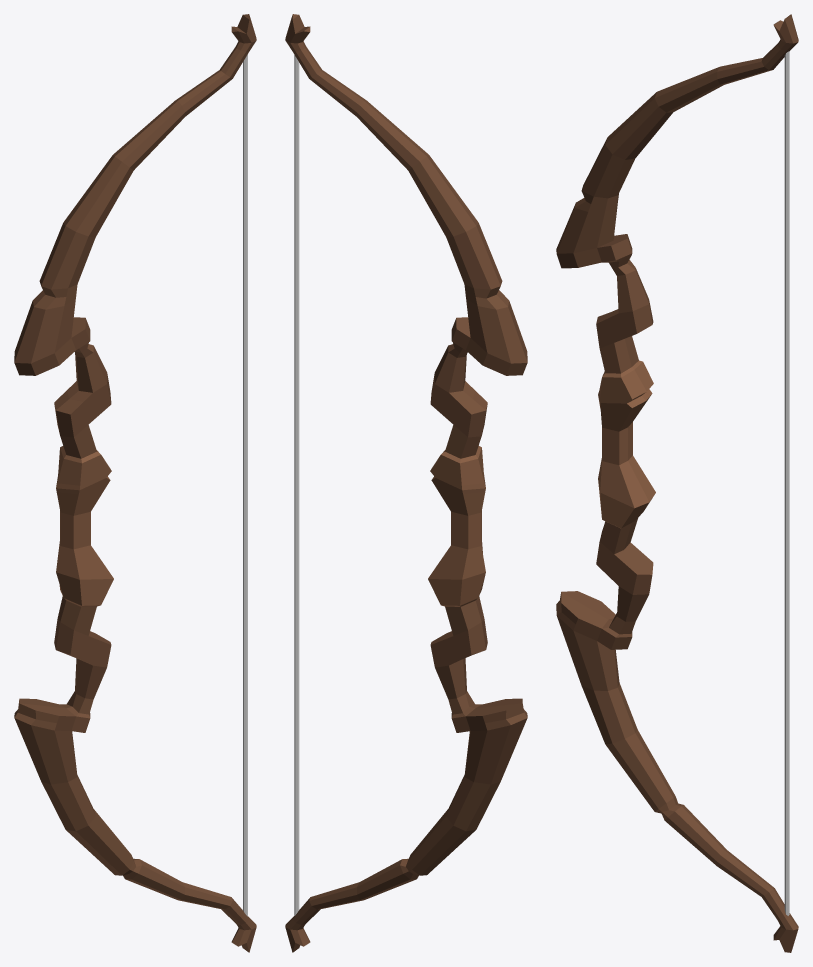
The model's file is Bow.glb.
3 views of the same model, side by side, from view 1: azimuth 30°, elevation 25°; view 2: azimuth 150°, elevation 25°; view 3: azimuth 330°, elevation 25° (orthographic).
Parts seen in each view (by area): view 1: Bow_Wooden; view 2: Bow_Wooden; view 3: Bow_Wooden.
Part boxes in pixels (x1,y1,x2,y2): Bow_Wooden: (14,14,256,952); Bow_Wooden: (285,14,527,952); Bow_Wooden: (556,14,798,952).
Size of the model in its own units: 1.47 by 5.44 by 0.2434.
